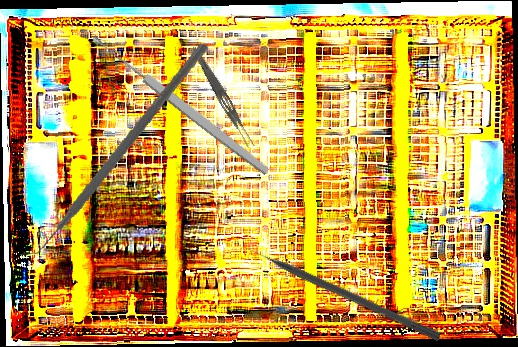Chopper: (11, 24, 210, 275)
Dressing Forceps: (187, 44, 258, 152)
Pusher: (241, 239, 443, 343)
Surgical Spoon: (90, 31, 271, 178)
